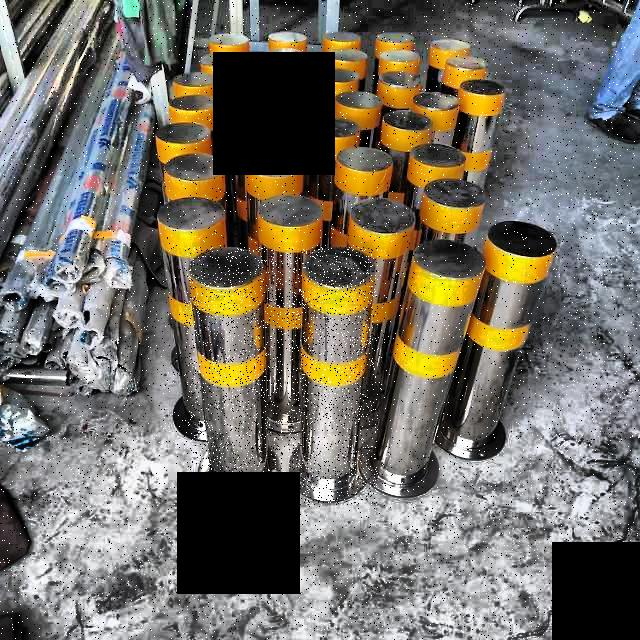bench: (184, 246, 284, 504), (287, 247, 379, 506)
